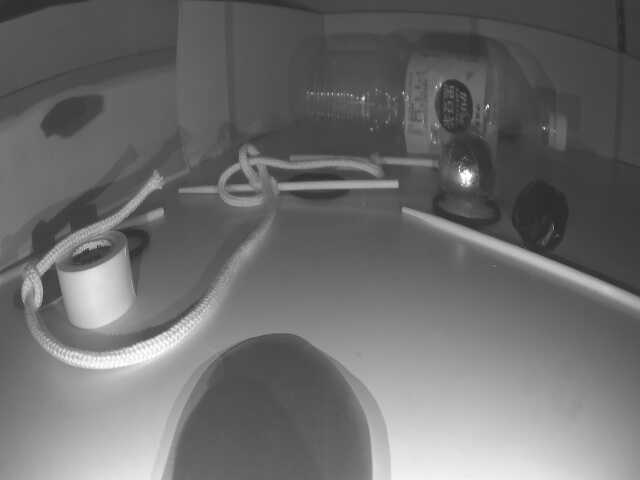Dead: (515, 181, 567, 249)
Live: (437, 132, 496, 204)
